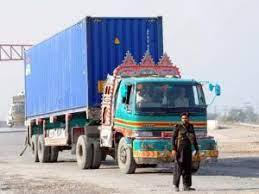Person: (171, 112, 199, 191)
Truck: (25, 15, 218, 177)
